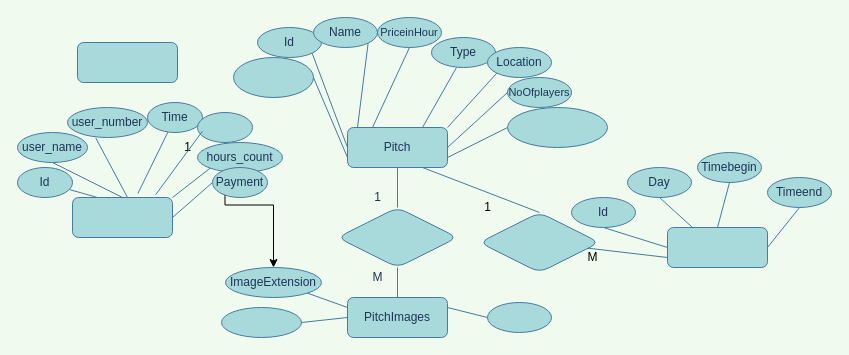
Some shapes in this 849 by 355 pixel diagram are drawn without their labels. The shapes that lost their labels are listed below. From the top down, each one's box as (x1, y1, x2, y2) in pixels, then its label:
(76, 42, 178, 82): Users
(232, 56, 314, 98): PhoneNumber
(196, 112, 252, 142): Date
(506, 106, 608, 148): DressingRoomVisible
(72, 196, 172, 238): Reservation
(336, 206, 458, 268): Has
(478, 212, 600, 272): Works
(666, 226, 768, 268): WorkDays
(220, 306, 302, 338): ImageName
(486, 302, 552, 332): Title
